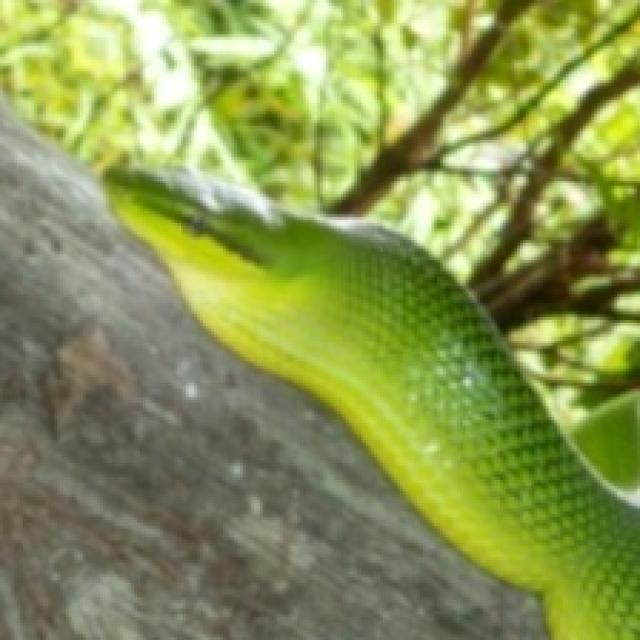red-tailed green ratsnake: (103, 169, 637, 637)
